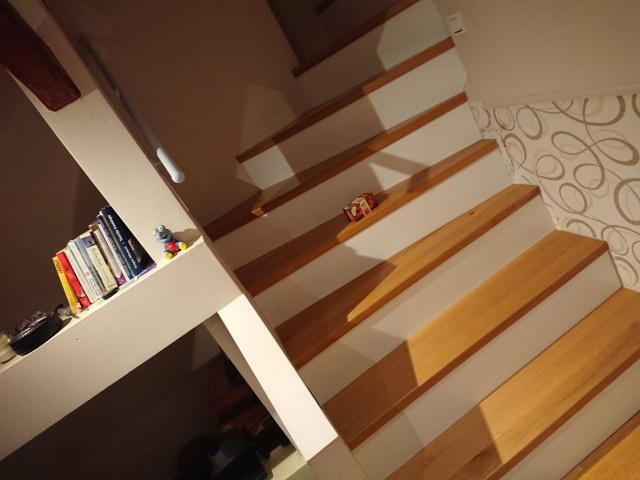Franck Apple Cinnamon Tea 60g: (339, 190, 381, 224)
